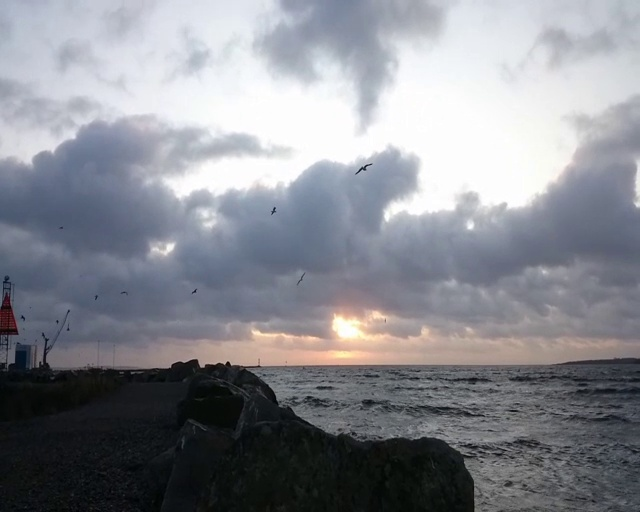BIRD: (296, 269, 307, 285)
